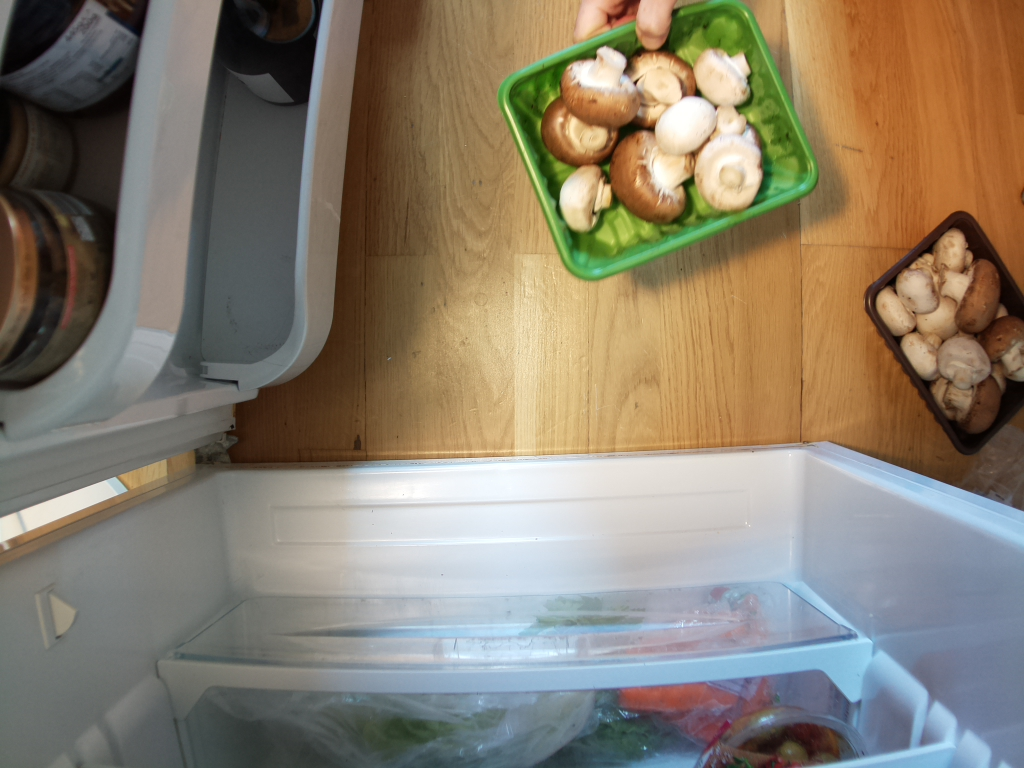mushrooms: (511, 16, 811, 286), (855, 216, 1024, 432)
